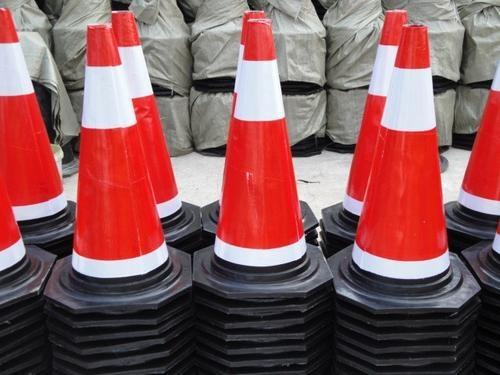cone_barrel: (344, 19, 455, 292), (203, 15, 312, 285), (63, 22, 169, 296), (450, 64, 499, 230)
